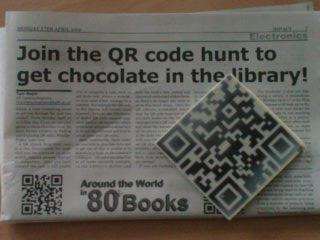QR-CODE: (156, 74, 301, 217), (21, 174, 62, 214)
